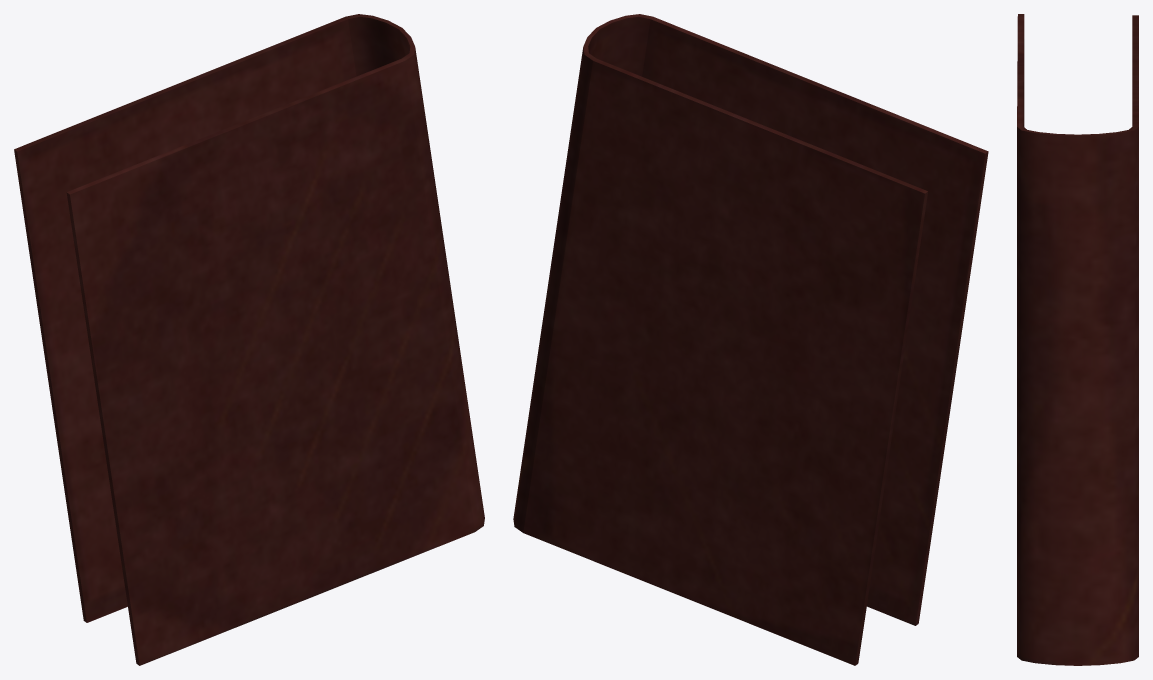
Rendered from cover001.obj.
3 renders of one model, left to right at view 1: azimuth 30°, elevation 25°; view 2: azimuth 150°, elevation 25°; view 3: azimuth 270°, elevation 25°, orthographic.
Bounding box in the file's own units: 0.0149 × 0.0179 × 0.00358.
Materials: 1 (1 with a texture image).
